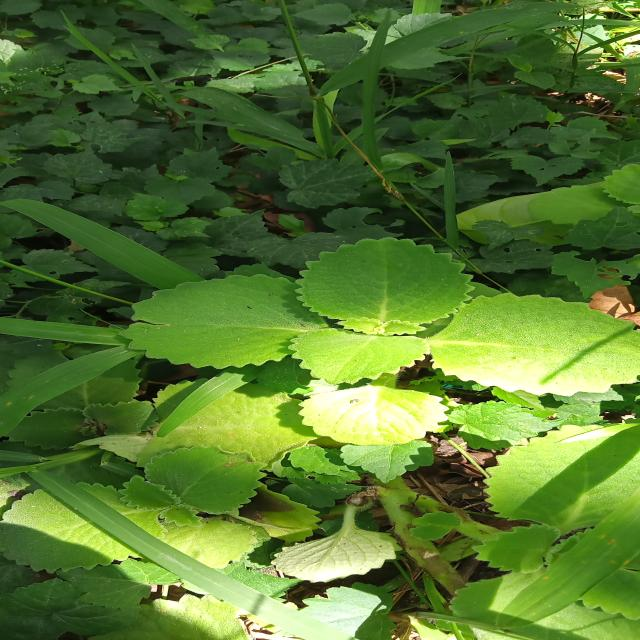Oregano: (121, 236, 640, 467), (206, 497, 438, 586), (63, 468, 226, 538)
